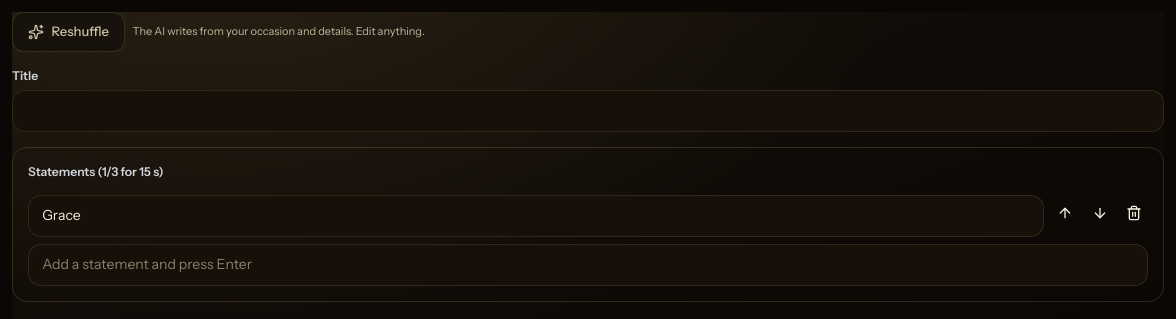
it: MomentsWordsStep › a statement emptied by the user reverts to its previous text and is never saved empty
Clear the field named "Statement 1" at (536, 216), box [28,195,1044,236]
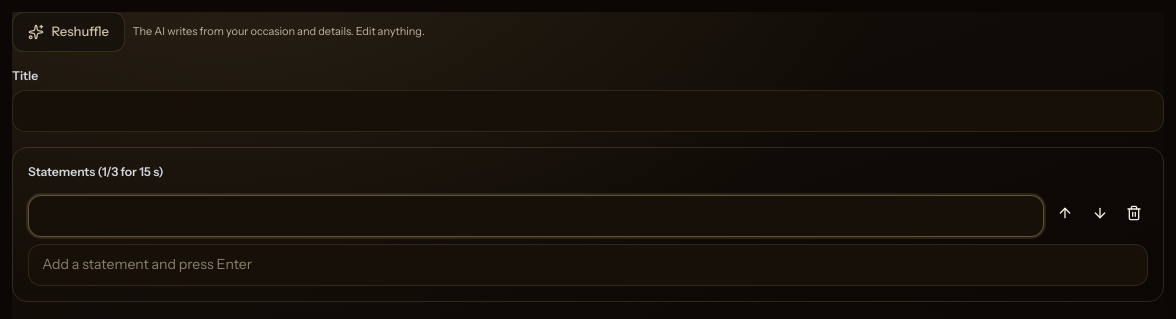
Press Tab
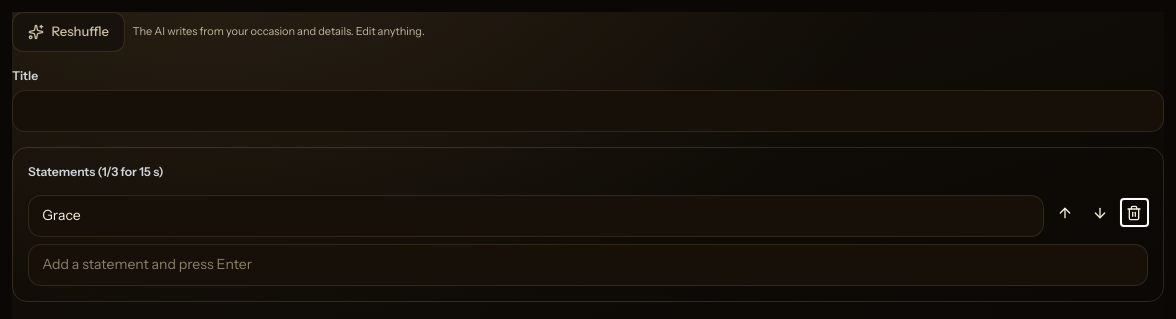
Check: the field named "Statement 1" holds "Grace", box [28,195,1044,236]
